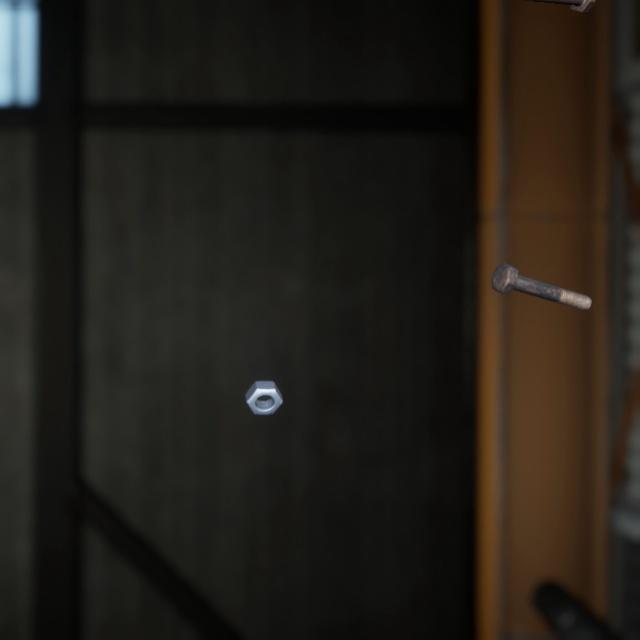bolt: (487, 241, 596, 298), (499, 617, 578, 640)
nut: (240, 356, 287, 399)
